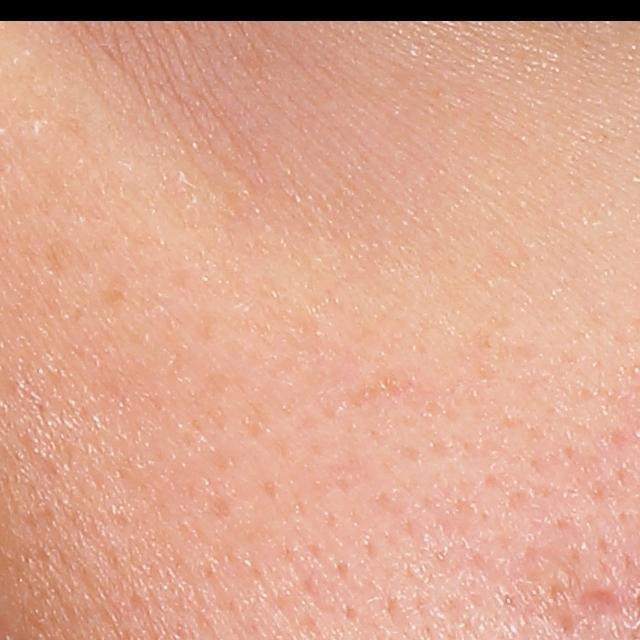atrophic_scar: (581, 586, 621, 615)
